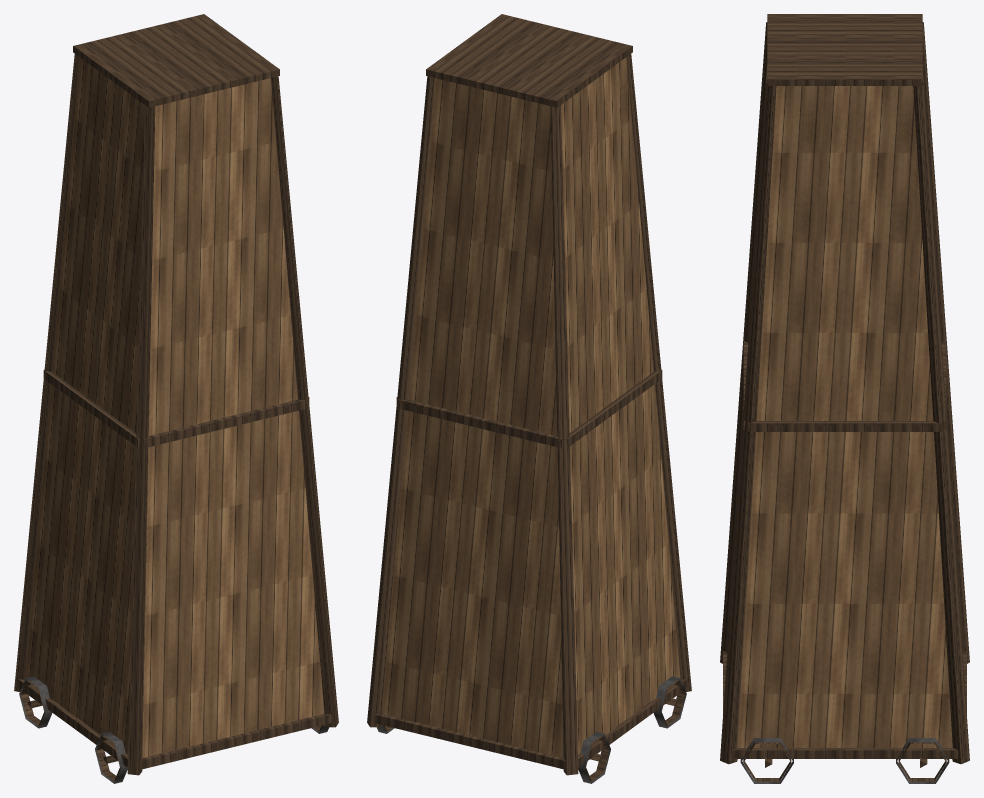
The model's file is SiegeTower_1_LOD2.gltf.
The picture shows the model from 3 angles, left to right: view 1: azimuth 30°, elevation 25°; view 2: azimuth 150°, elevation 25°; view 3: azimuth 270°, elevation 25°; orthographic projection. The views are drawn at different scales.
Visible parts, largest first — view 1: SiegeTower_1_LOD2; view 2: SiegeTower_1_LOD2; view 3: SiegeTower_1_LOD2.
Boxes of the visible parts, left/top/right/bottom form: SiegeTower_1_LOD2: left=14, top=14, right=338, bottom=783; SiegeTower_1_LOD2: left=367, top=14, right=691, bottom=783; SiegeTower_1_LOD2: left=720, top=14, right=969, bottom=783.
Size of the model in its own units: 5.32 by 15.58 by 5.16.
Materials: 3 (3 with a texture image).
